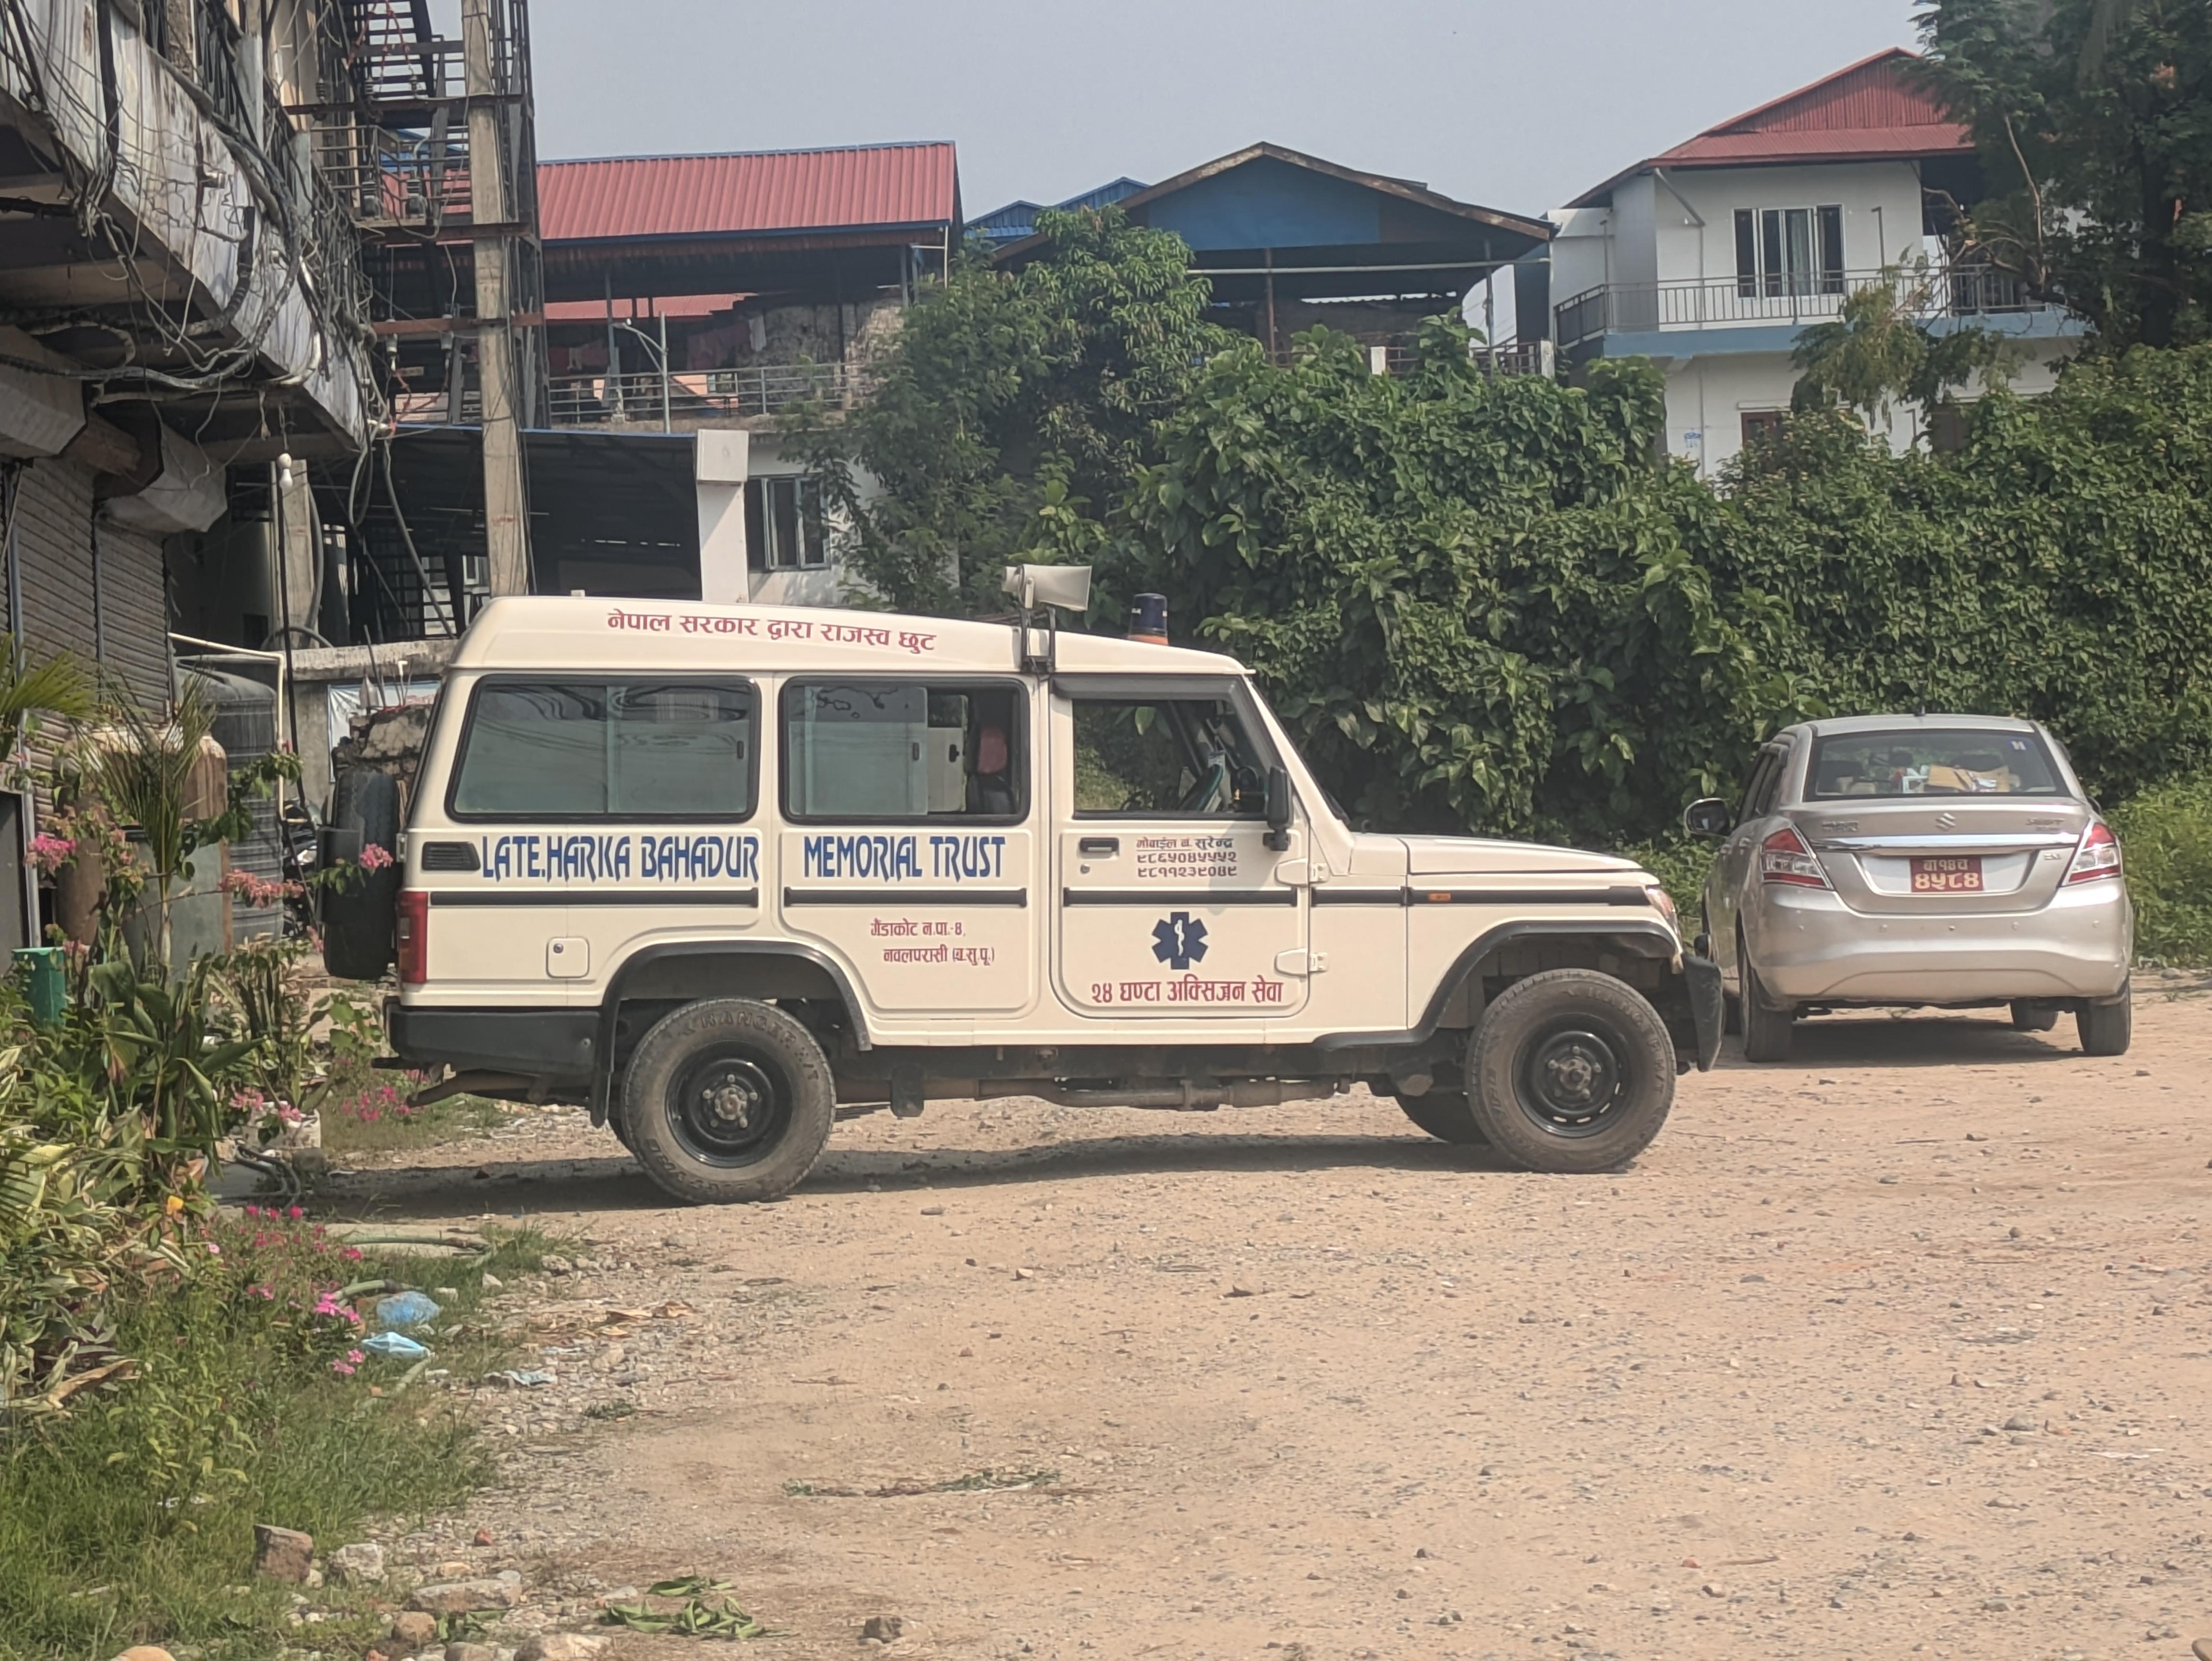ambulance: (291, 541, 1732, 1192)
car: (1682, 675, 2146, 1070)
